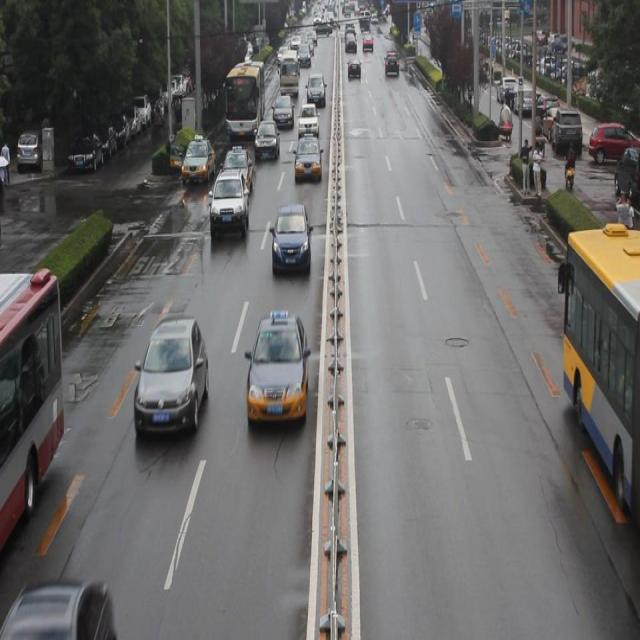car: (135, 320, 208, 436), (246, 314, 309, 428), (271, 201, 310, 274), (209, 169, 248, 238), (220, 146, 254, 202), (183, 134, 216, 184), (293, 133, 320, 182), (254, 117, 278, 160), (271, 94, 293, 131), (298, 103, 319, 134)
van: (555, 215, 640, 513), (1, 267, 66, 546), (225, 59, 266, 138)
